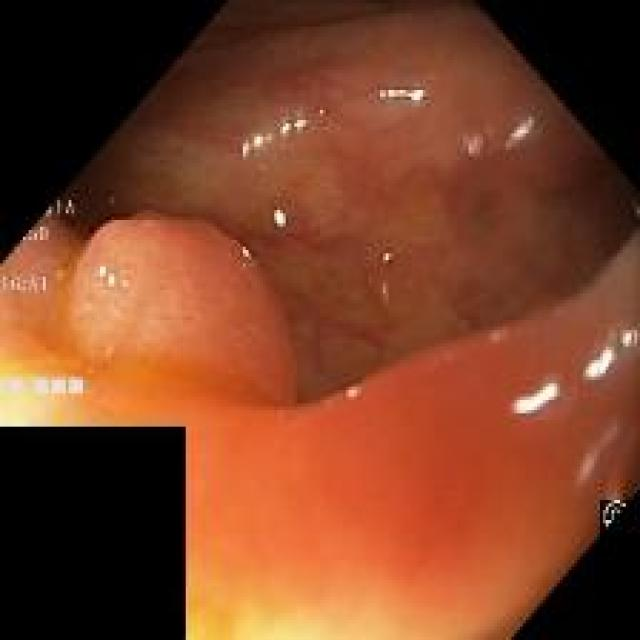Polyps: (70, 213, 296, 405)
